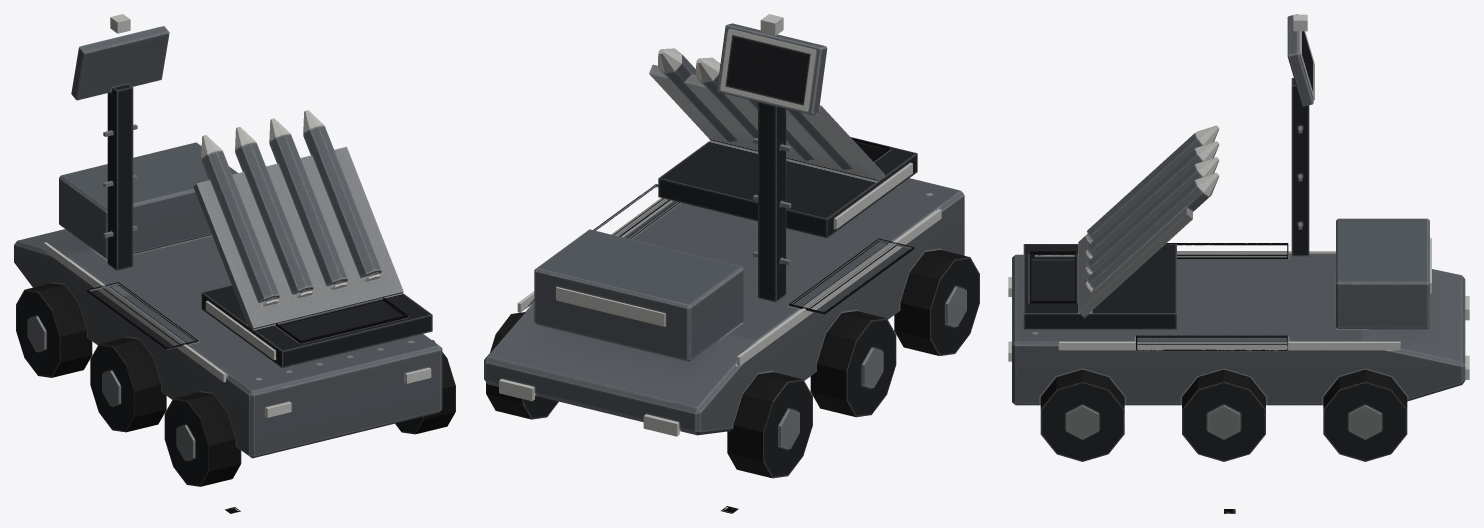
The model's file is chs_gorgon.fbx.
3 renders of one model, left to right at view 1: azimuth 30°, elevation 25°; view 2: azimuth 150°, elevation 25°; view 3: azimuth 270°, elevation 25°, orthographic. The views are drawn at different scales.
Visible parts, largest first — view 1: base_bar, launcher_bar, turret_bar, base_glow_running_bar, launcher_glow_running_bar; view 2: base_bar, launcher_bar, turret_bar, base_glow_running_bar, turret_glow_running_bar, base_glow_head_bar, launcher_glow_running_bar; view 3: base_bar, launcher_bar, turret_bar, base_glow_running_bar, turret_glow_running_bar.
Part boxes in pixels (x1,y1,x2,y2): base_bar: (14,142,455,486); launcher_bar: (193,110,432,368); turret_bar: (71,26,169,270); base_glow_running_bar: (44,242,431,417); launcher_glow_running_bar: (205,301,275,359); base_bar: (484,178,979,478); launcher_bar: (649,48,917,238); turret_bar: (717,23,827,302); base_glow_running_bar: (517,198,941,366); turret_glow_running_bar: (720,14,815,111); base_glow_head_bar: (499,379,679,436); launcher_glow_running_bar: (834,163,912,229); base_bar: (1012,218,1465,461); launcher_bar: (1023,125,1219,329); turret_bar: (1287,14,1313,256); base_glow_running_bar: (1008,238,1431,361); turret_glow_running_bar: (1293,14,1314,99).
Size of the model in its own units: 468 by 860 by 783.
Materials: 2 (2 with a texture image).
